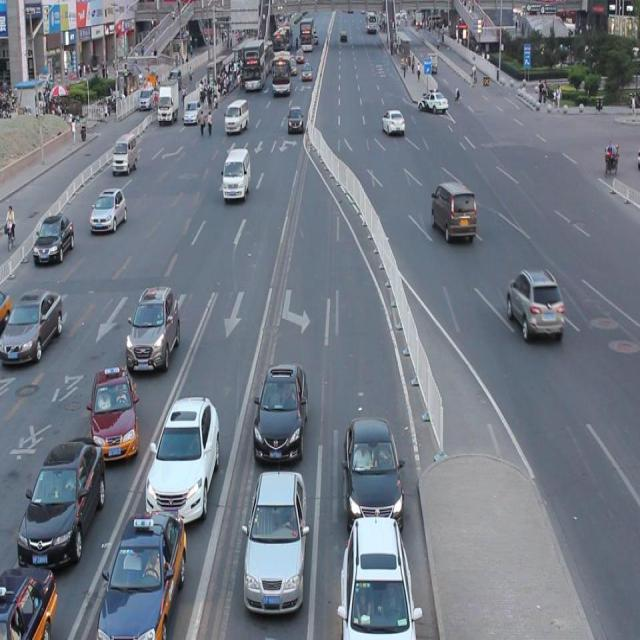car: (95, 505, 187, 640), (17, 434, 106, 571), (339, 511, 418, 640), (241, 464, 308, 615), (144, 393, 220, 524), (342, 412, 402, 528), (252, 359, 308, 464), (124, 282, 180, 375), (89, 363, 140, 464), (1, 287, 63, 361), (1, 564, 58, 640), (506, 266, 563, 342), (431, 180, 476, 243), (32, 213, 74, 267), (90, 186, 127, 231)
truck: (221, 148, 251, 200), (111, 132, 138, 175)
